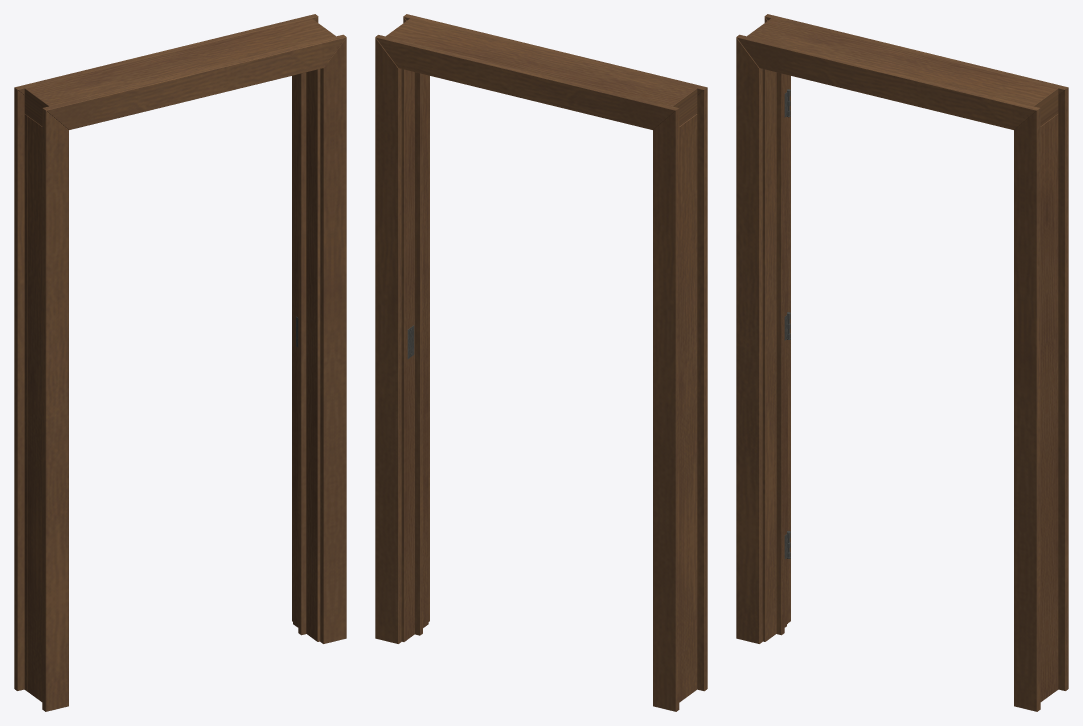
File: door_frame.glb
3 views of the same model, side by side, from view 1: azimuth 30°, elevation 25°; view 2: azimuth 150°, elevation 25°; view 3: azimuth 330°, elevation 25° (orthographic).
Visible parts, largest first — view 1: door_frame; view 2: door_frame; view 3: door_frame.
Boxes of the visible parts, box(x1,y1,x2,y2) form: door_frame: box(14, 14, 346, 711); door_frame: box(375, 14, 707, 711); door_frame: box(736, 14, 1068, 711).
Bounding box in the file's own units: 1.22 × 2.32 × 0.2222.
Materials: 3 (2 with a texture image).
